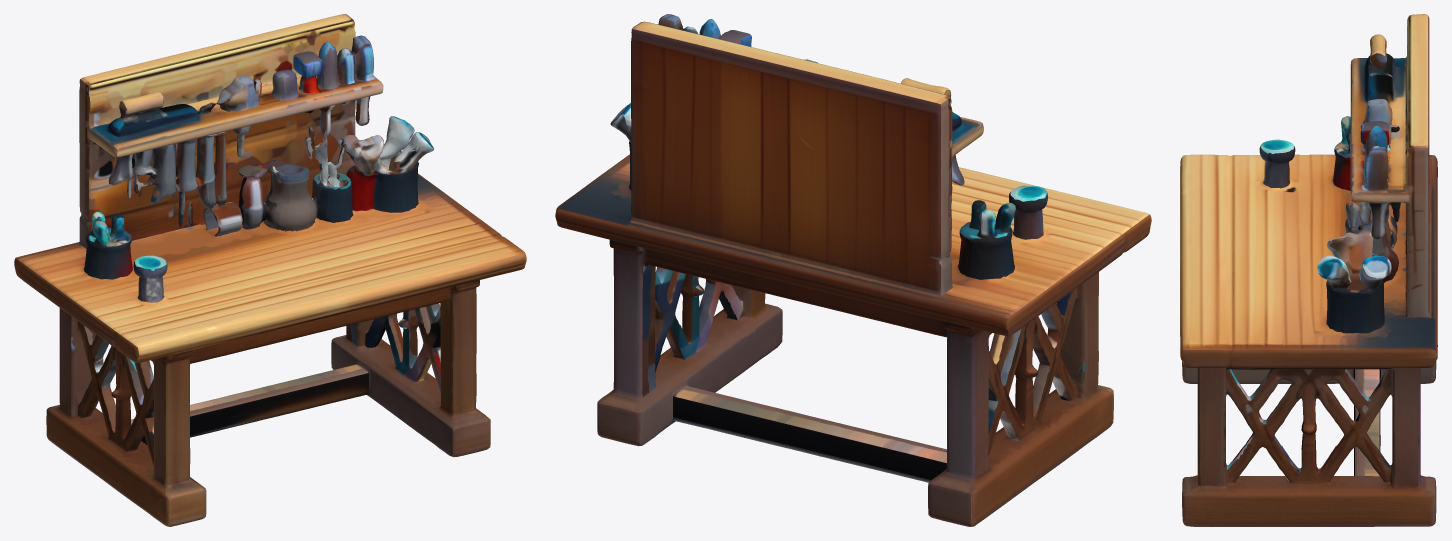
Rendered from banco_herramientas.glb.
3 views of the same model, side by side, from view 1: azimuth 30°, elevation 25°; view 2: azimuth 150°, elevation 25°; view 3: azimuth 270°, elevation 25° (orthographic). The views are drawn at different scales.
Parts seen in each view (by area): view 1: tmp4f2e9n4q.ply; view 2: tmp4f2e9n4q.ply; view 3: tmp4f2e9n4q.ply.
Part boxes in pixels (<box>): tmp4f2e9n4q.ply: <box>14,14,526,526</box>; tmp4f2e9n4q.ply: <box>555,14,1151,526</box>; tmp4f2e9n4q.ply: <box>1180,14,1437,526</box>.
Size of the model in its own units: 0.9921 by 0.8687 by 0.551.
Materials: 1 (1 with a texture image).
